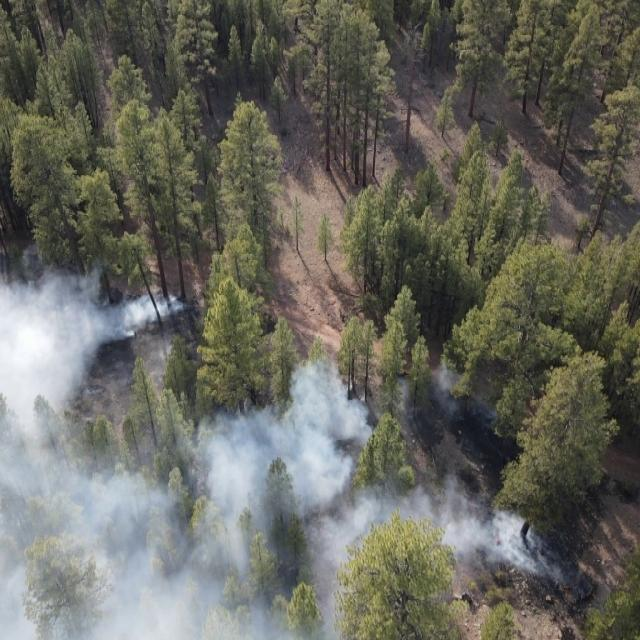fire: (491, 531, 502, 545)
smoke: (105, 409, 288, 640), (0, 341, 104, 640), (288, 359, 374, 640), (0, 261, 184, 343), (374, 508, 568, 580), (374, 366, 510, 434), (374, 473, 486, 509)
